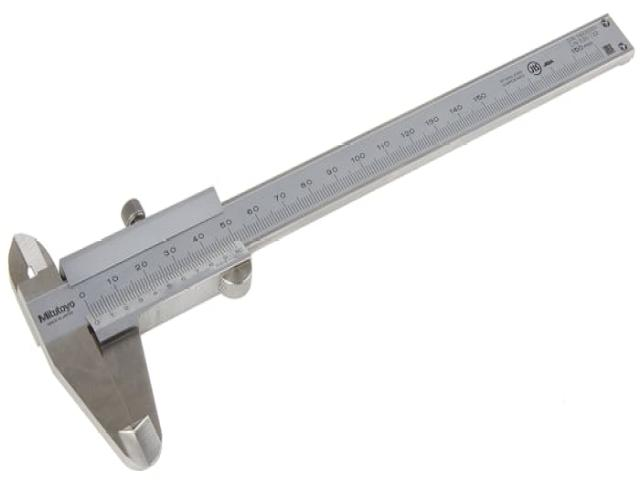Calipers: (11, 16, 632, 467)
